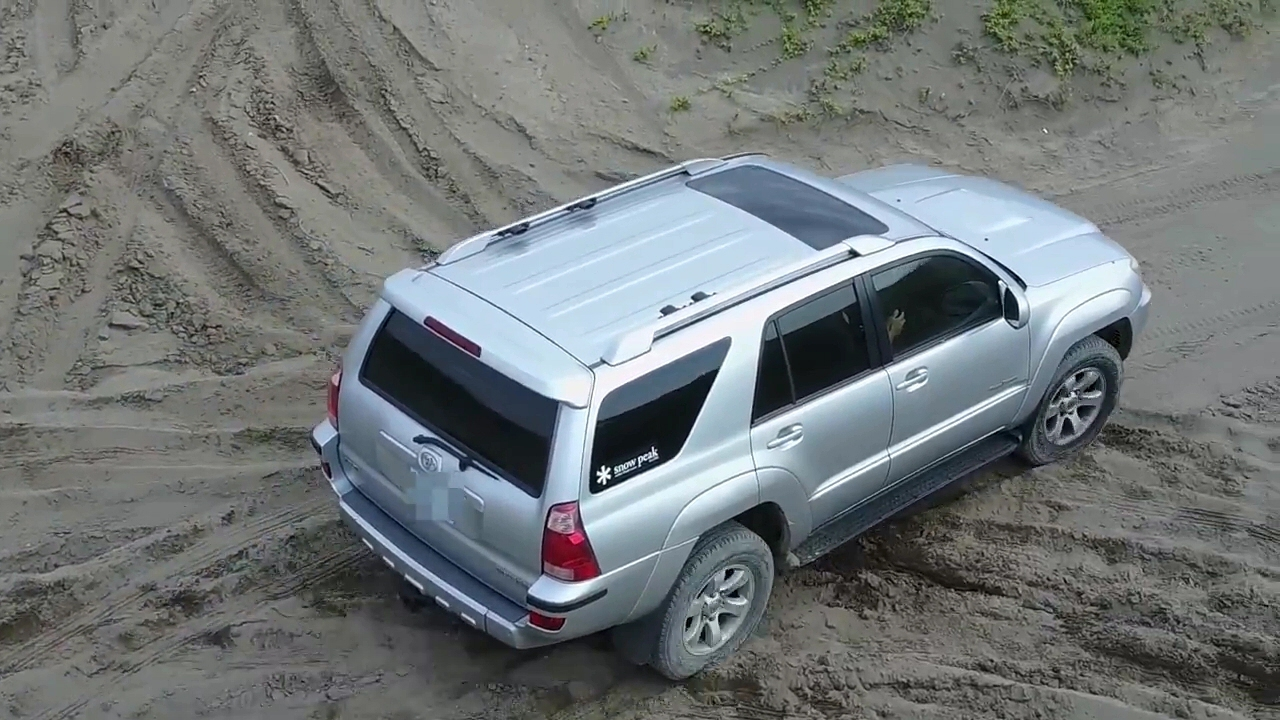araba: (280, 155, 1165, 690)
